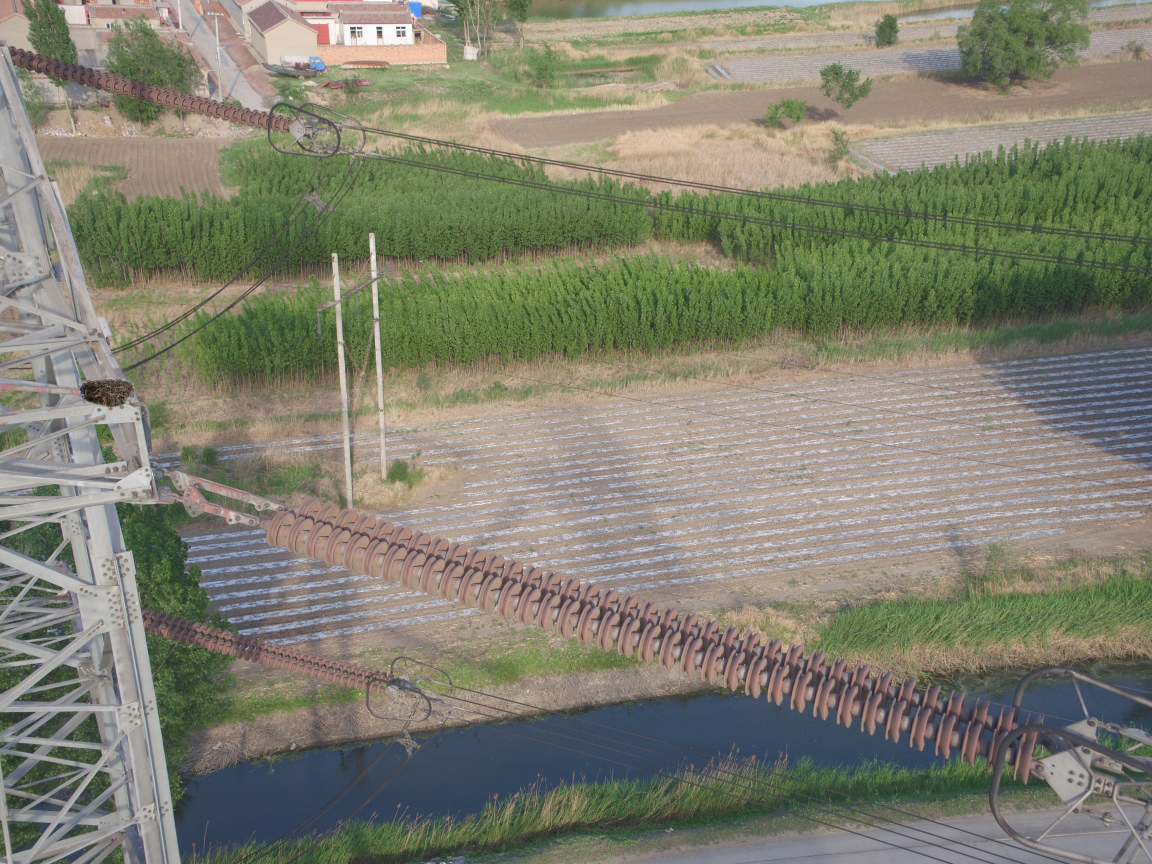nest: (79, 375, 138, 412)
